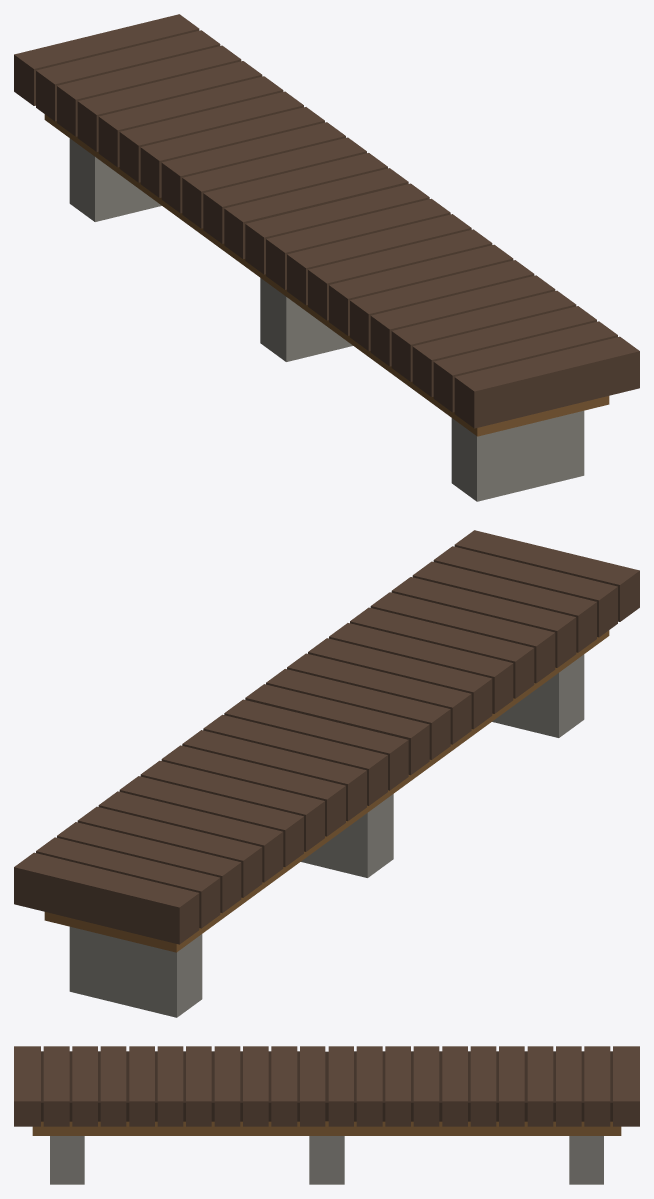
Rendered from 3D_bench.fbx.
3 renders of one model, top to bottom at view 1: azimuth 30°, elevation 25°; view 2: azimuth 150°, elevation 25°; view 3: azimuth 270°, elevation 25°, orthographic. The views are drawn at different scales.
Parts seen in each view (by area): view 1: BecnhLower.004; view 2: BecnhLower.004; view 3: BecnhLower.004.
Boxes of the visible parts, <box> form: BecnhLower.004: <box>14,14,639,501</box>; BecnhLower.004: <box>14,530,639,1017</box>; BecnhLower.004: <box>14,1046,639,1184</box>.
Size of the model in its own units: 0.7473 by 0.59 by 3.6.
